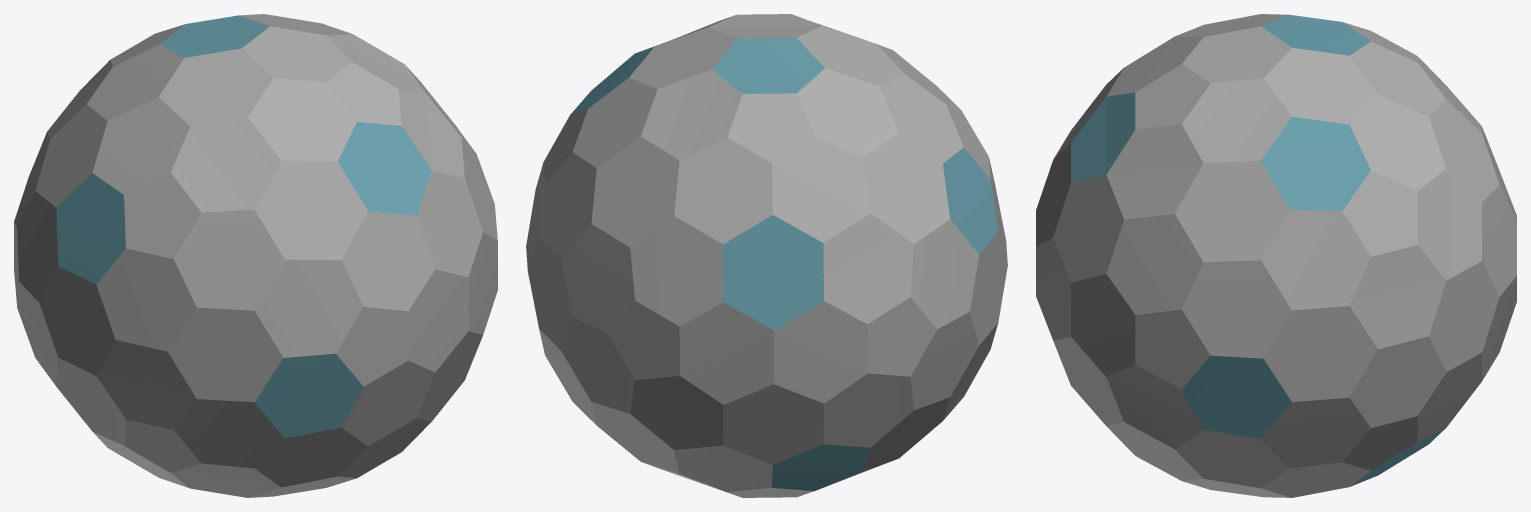
File: Hexphere_V2.fbx
3 renders of one model, left to right at view 1: azimuth 30°, elevation 25°; view 2: azimuth 150°, elevation 25°; view 3: azimuth 270°, elevation 25°, orthographic.
Parts seen in each view (by area): view 1: Hexphere; view 2: Hexphere; view 3: Hexphere.
Boxes of the visible parts, x1,y1,x2,y2 form: Hexphere: (14,14,497,497); Hexphere: (526,14,1007,497); Hexphere: (1036,14,1516,497).
Bounding box in the file's own units: 241 × 239 × 238.
